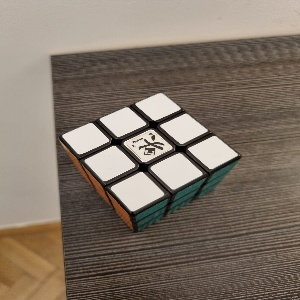cube: (58, 92, 242, 233)
